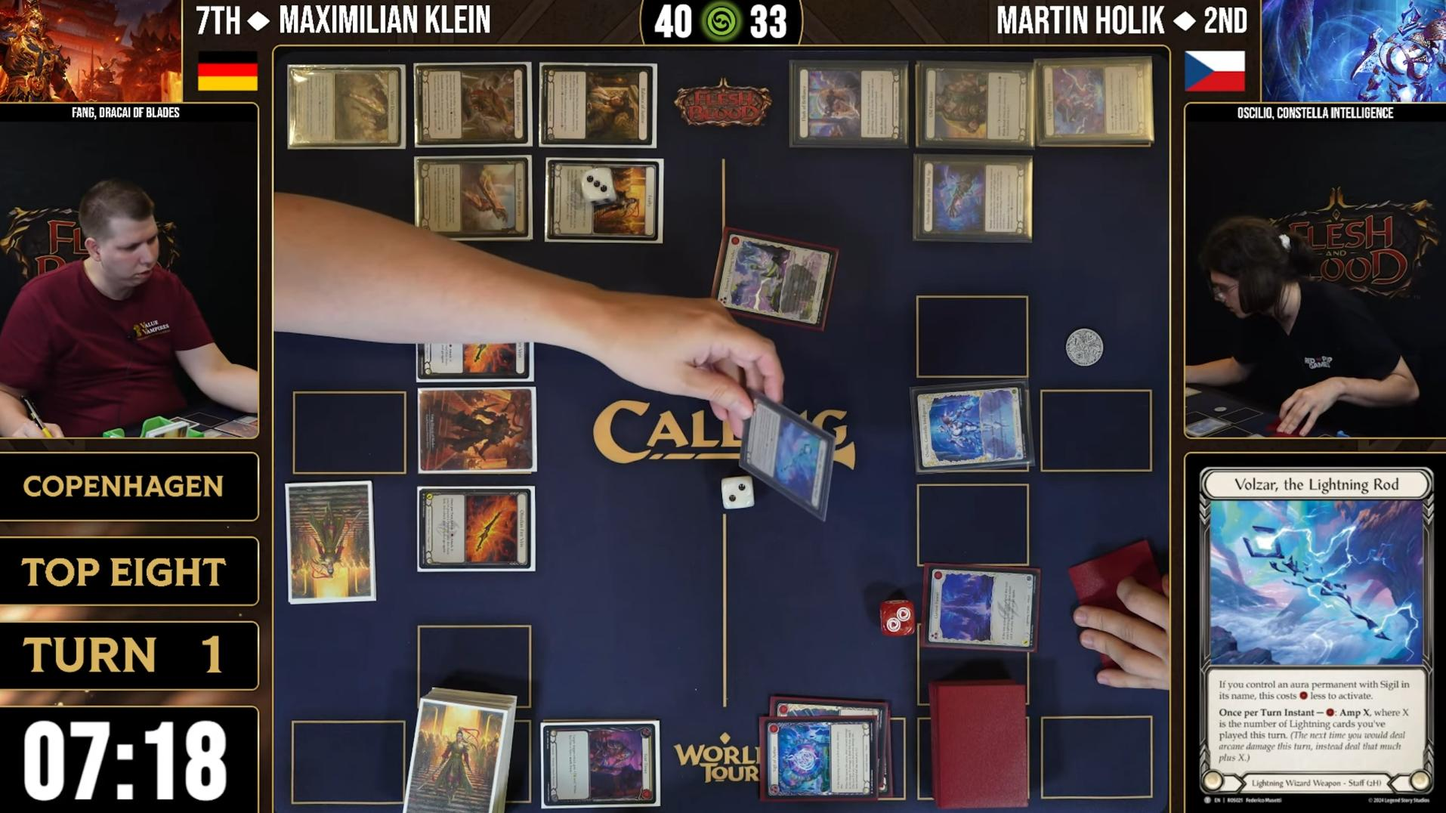Card: (1191, 461, 1443, 799), (734, 389, 837, 521), (713, 228, 838, 330), (912, 382, 1031, 472), (924, 564, 1041, 651), (774, 697, 887, 787), (920, 61, 1035, 149), (790, 61, 909, 146), (916, 154, 1032, 241), (1036, 57, 1153, 143), (542, 722, 658, 807), (539, 62, 649, 150), (414, 63, 529, 146), (546, 159, 660, 242), (414, 341, 538, 385)
Ref: (418, 488, 532, 570), (415, 156, 529, 238), (764, 718, 878, 800), (418, 389, 533, 470), (288, 66, 402, 147)
